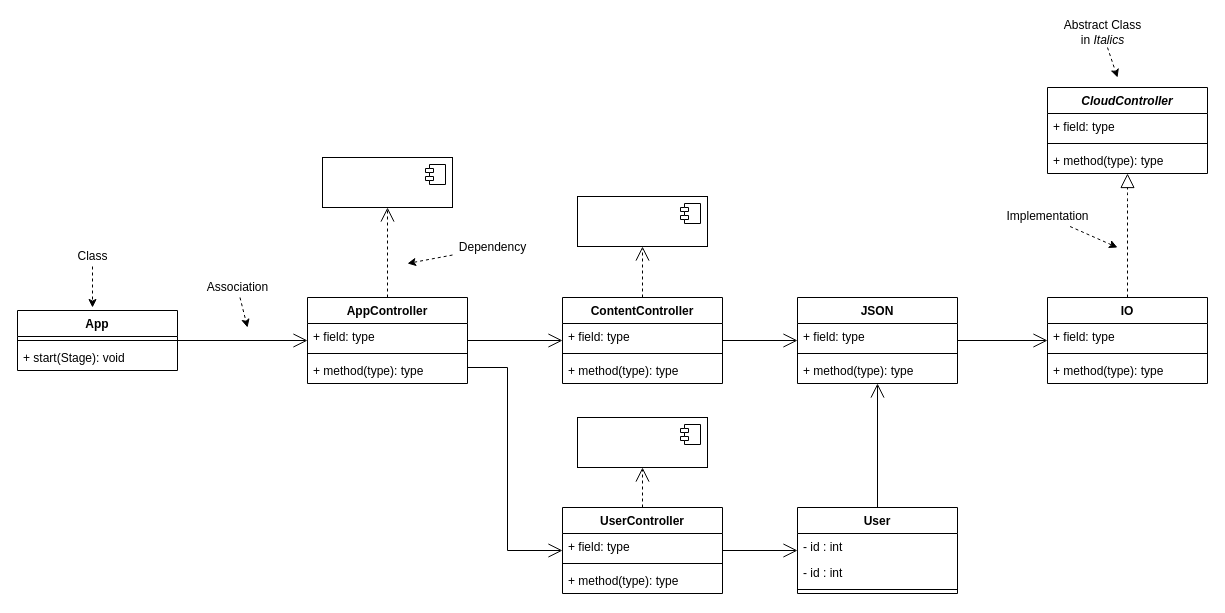
This 1225x613 diagram has some shape labels left out. The shapes that lost their labels are listed below. From the top down, each one's centre as x and y in pixels, then its label:
At (x=387, y=182): "App.xml".
At (x=642, y=221): "Content.xml".
At (x=642, y=442): "User.xml".
